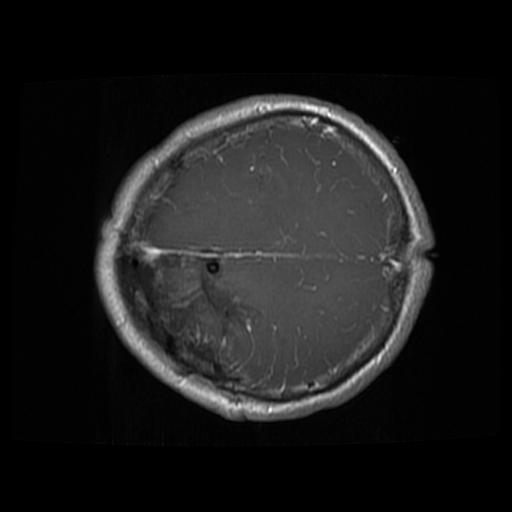glioma: (116, 252, 251, 380)
